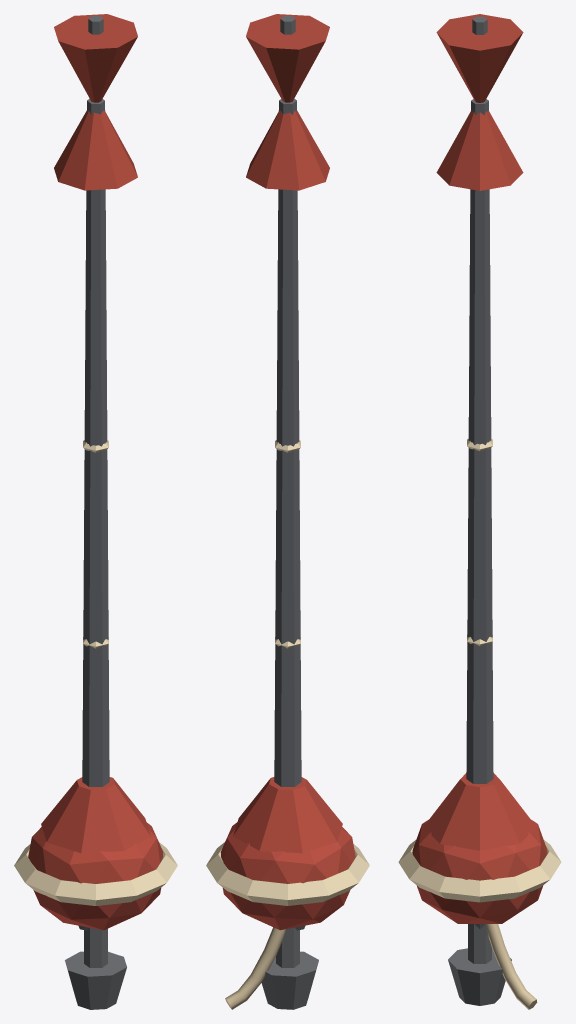
Rendered from prop_marker_buoy_a.glb.
3 renders of one model, left to right at view 1: azimuth 30°, elevation 25°; view 2: azimuth 150°, elevation 25°; view 3: azimuth 270°, elevation 25°, orthographic.
Visible parts, largest first — view 1: buoy_float, buoy_chain_eye, buoy_float_band; view 2: buoy_float, buoy_chain_eye, buoy_float_band, buoy_chain; view 3: buoy_float, buoy_chain_eye, buoy_float_band, buoy_chain.
Boxes of the visible parts, bbox=[...] form: buoy_float: bbox=[28, 14, 163, 930]; buoy_chain_eye: bbox=[65, 16, 126, 1009]; buoy_float_band: bbox=[14, 440, 177, 905]; buoy_float: bbox=[220, 14, 355, 930]; buoy_chain_eye: bbox=[261, 16, 318, 1009]; buoy_float_band: bbox=[206, 440, 369, 905]; buoy_chain: bbox=[225, 927, 285, 1009]; buoy_float: bbox=[412, 14, 547, 923]; buoy_chain_eye: bbox=[448, 16, 511, 1005]; buoy_float_band: bbox=[398, 438, 561, 902]; buoy_chain: bbox=[487, 924, 537, 1009].
Size of the model in its own units: 0.432 by 2.86 by 0.432.
